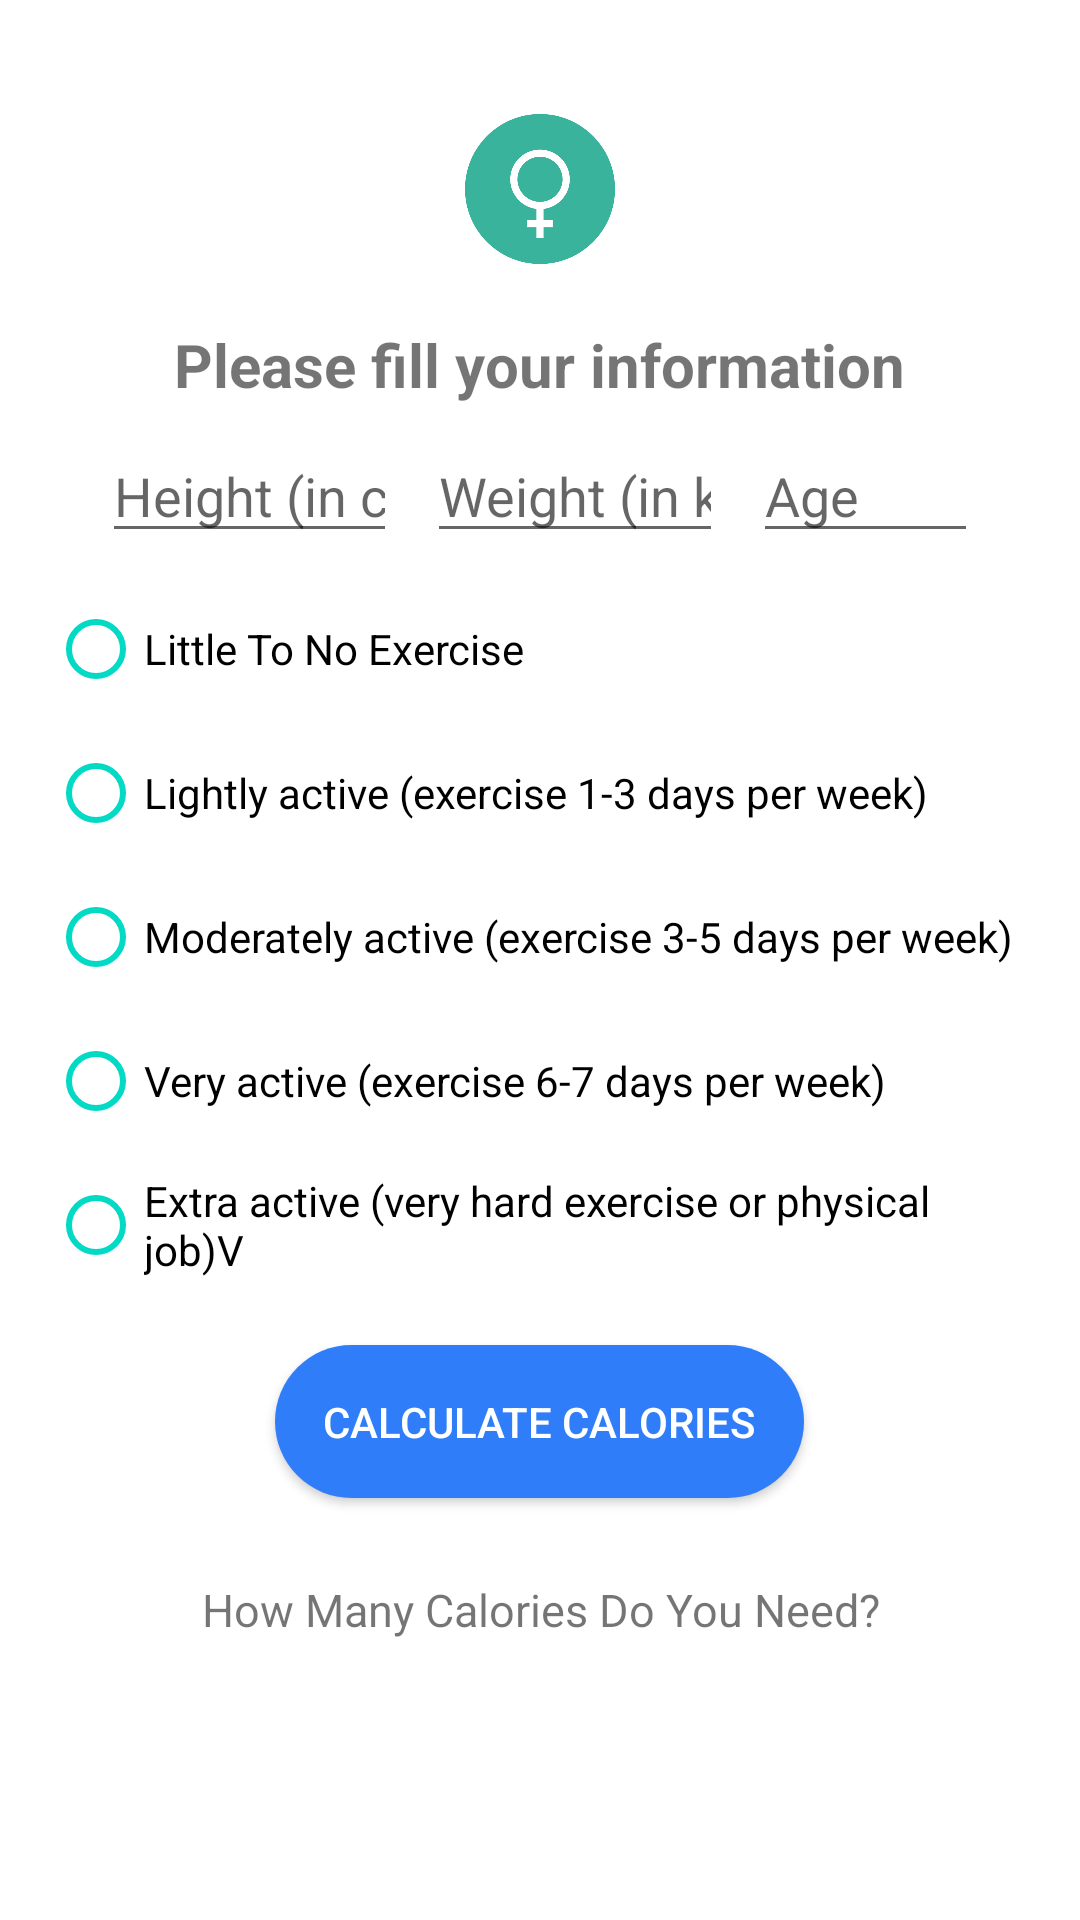

Screen size 1080*1920. Icon name, then its center in pixels as (x=x, y=y):
female: (x=540, y=189)
